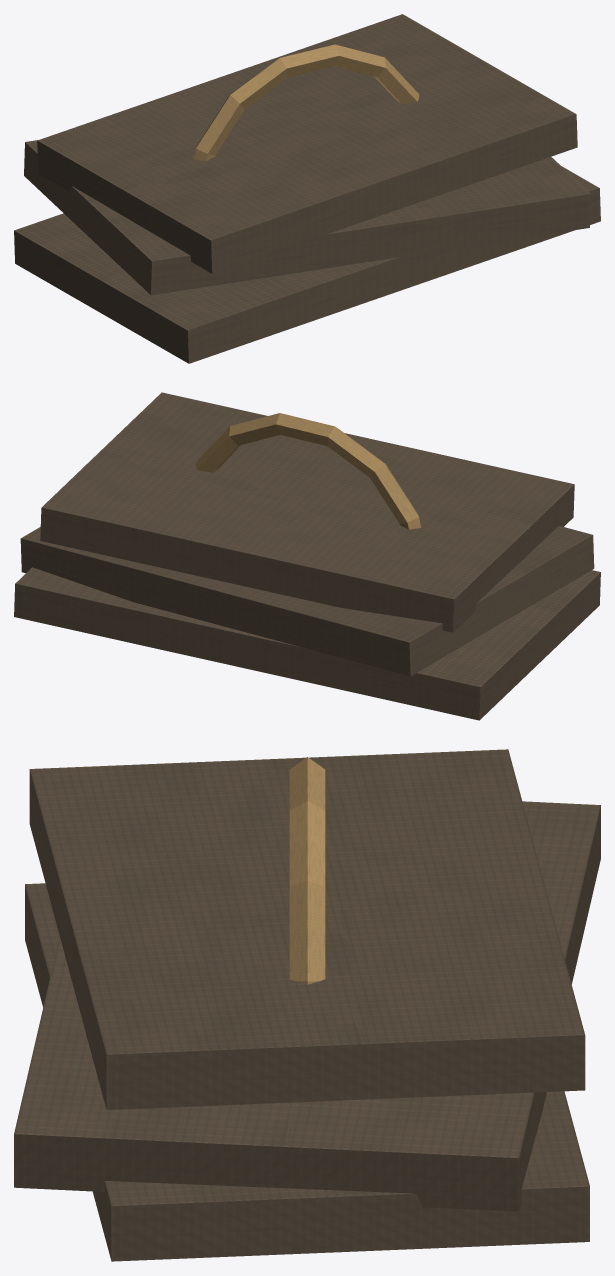
The model's file is pr-013_cloth_bundle__small.obj.
3 renders of one model, top to bottom at view 1: azimuth 30°, elevation 25°; view 2: azimuth 150°, elevation 25°; view 3: azimuth 270°, elevation 25°, orthographic. The views are drawn at different scales.
Visible parts, largest first — view 1: pr-013_cloth_bundle__small; view 2: pr-013_cloth_bundle__small; view 3: pr-013_cloth_bundle__small.
Part boxes in pixels (x1=…): pr-013_cloth_bundle__small: x1=14, y1=14, x2=600, y2=363; pr-013_cloth_bundle__small: x1=14, y1=392, x2=600, y2=720; pr-013_cloth_bundle__small: x1=14, y1=749, x2=600, y2=1261.
Size of the model in its own units: 0.6554 by 0.3393 by 0.4391.
2 materials, 2 textured.
